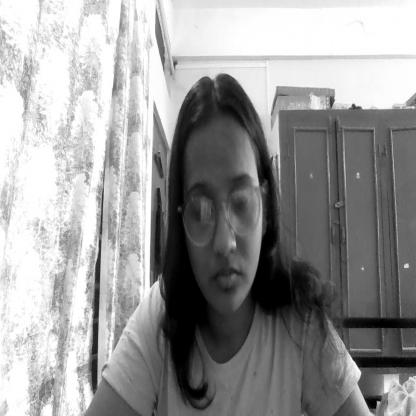Normal: (180, 114, 262, 308)
